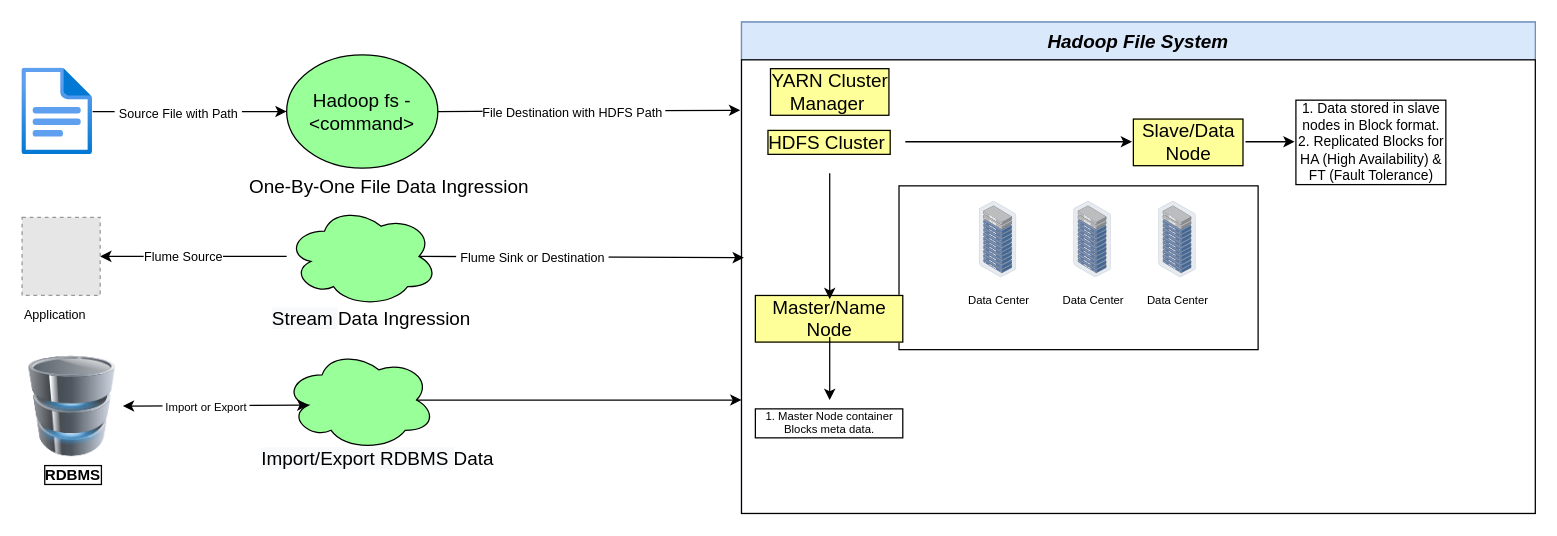
Some shapes in this 1557 by 536 pixel diagram are drawn without their labels. Grey dashed boxes stand in for pictures. Here are the shapes that lost their labels. From the top down, the centre of each, then its label:
At (56,110): "File".
At (361,256): "Flume".
At (359,399): "Sqoop".
